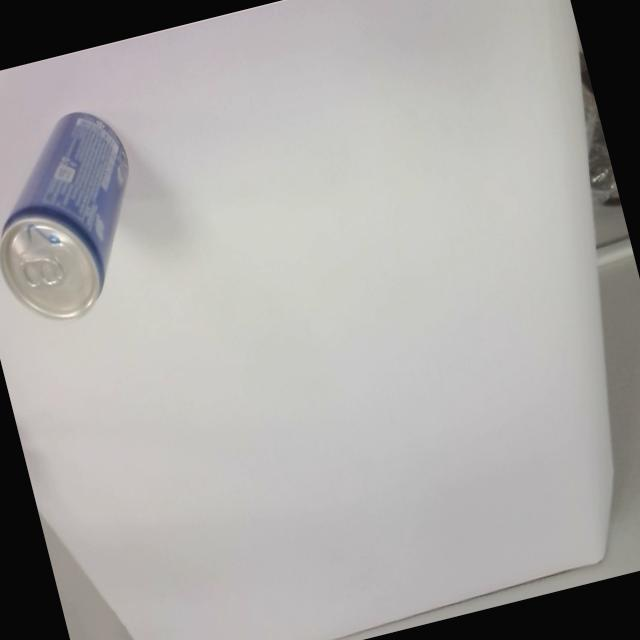debris: (0, 100, 163, 335)
